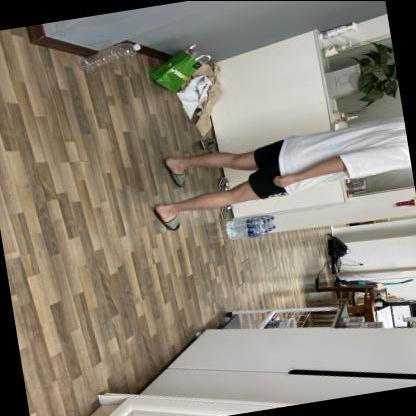no_safety-shoe: (144, 196, 189, 238), (151, 150, 195, 192)
